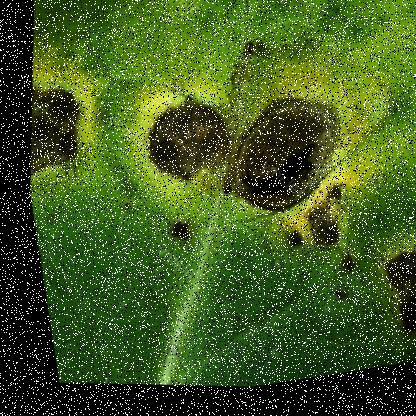AlternariaBrassicicola: (200, 85, 352, 239), (120, 86, 243, 208), (9, 63, 98, 206), (351, 247, 415, 355), (152, 214, 190, 251)
